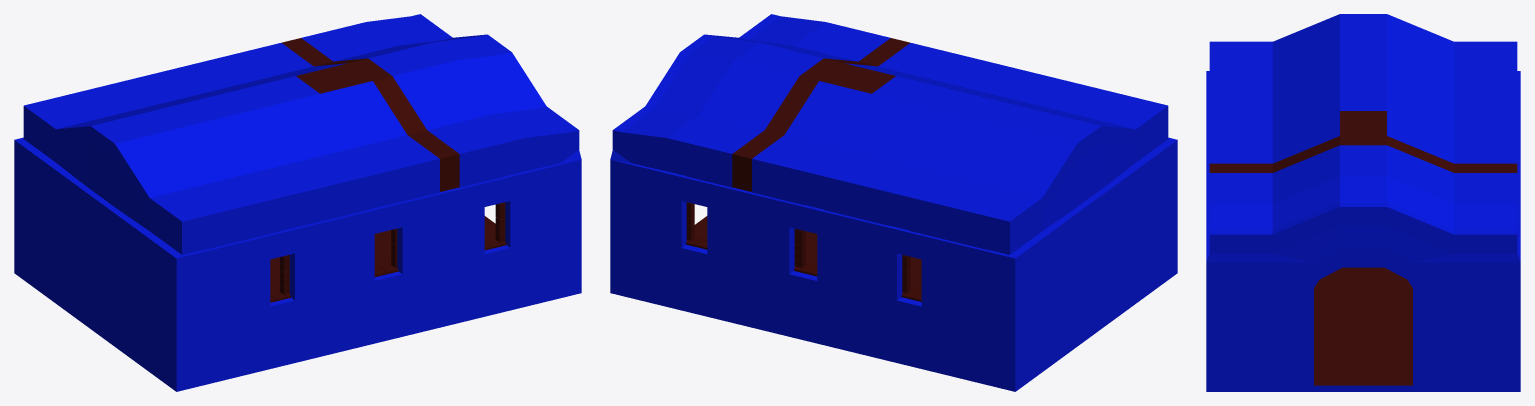
File: classroomBase.fbx
3 views of the same model, side by side, from view 1: azimuth 30°, elevation 25°; view 2: azimuth 150°, elevation 25°; view 3: azimuth 270°, elevation 25° (orthographic). The views are drawn at different scales.
Visible parts, largest first — view 1: Cube, Cube.004, Cube.006, Cube.005; view 2: Cube, Cube.002, Cube.003, Cube.001; view 3: Cube.
Boxes of the visible parts, <box> form: Cube: <box>14,14,581,391</box>; Cube.004: <box>484,202,506,250</box>; Cube.006: <box>270,255,290,302</box>; Cube.005: <box>374,228,398,277</box>; Cube: <box>610,14,1177,391</box>; Cube.002: <box>794,228,817,276</box>; Cube.003: <box>686,202,707,249</box>; Cube.001: <box>901,255,921,301</box>; Cube: <box>1206,14,1520,391</box>.
Size of the model in its own units: 6029 by 2784 by 4182.
